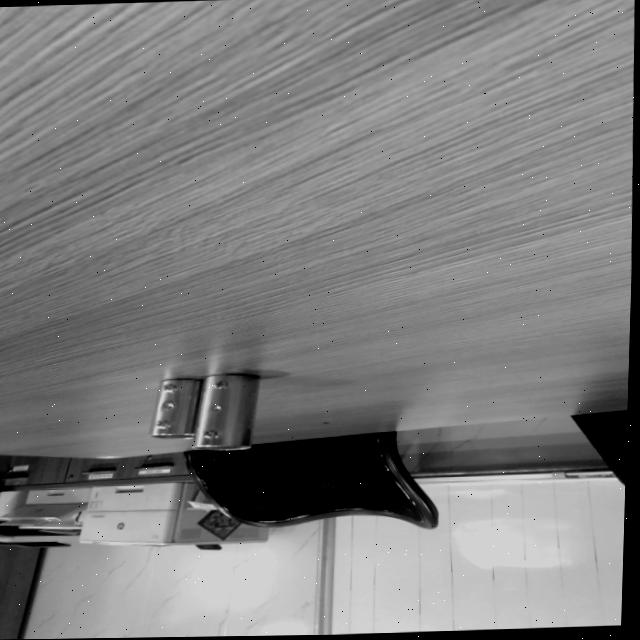Co_Lon: (147, 371, 202, 443)
Co_Nho: (190, 368, 259, 455)
